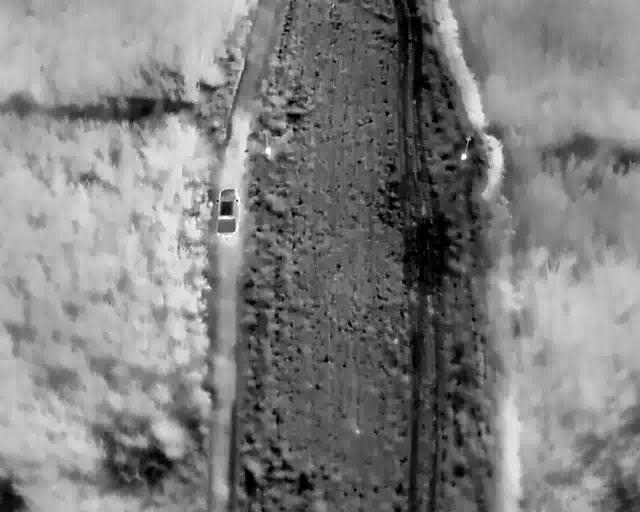car: (216, 188, 239, 238)
